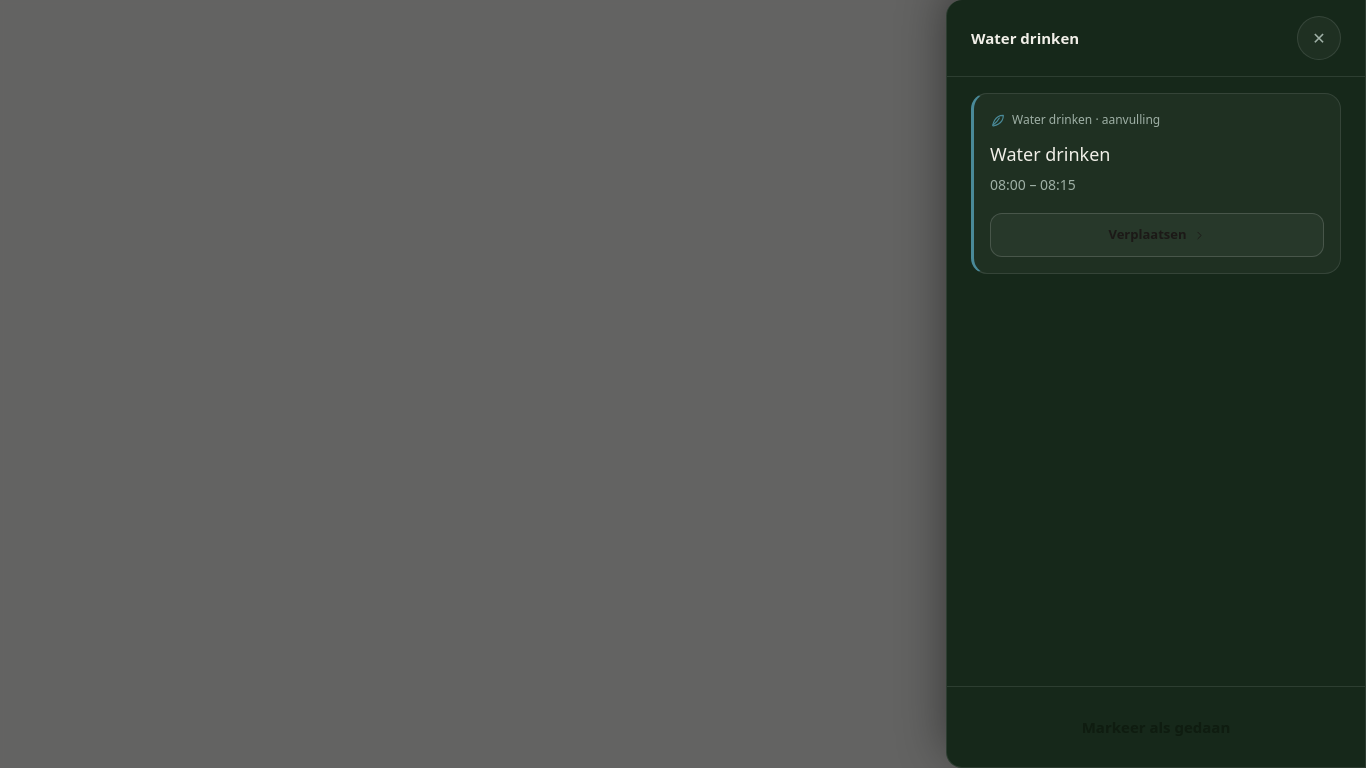
Test case: AgendaBlockDetailSheet — foutpad bij mislukte mutaties (B2/B4) › verplaatsen die faalt: sheet blijft open, toont de servermelding, geen tracking
Click the button "Verplaatsen" at (1157,235), box x1=990 y1=213 x2=1324 y2=257
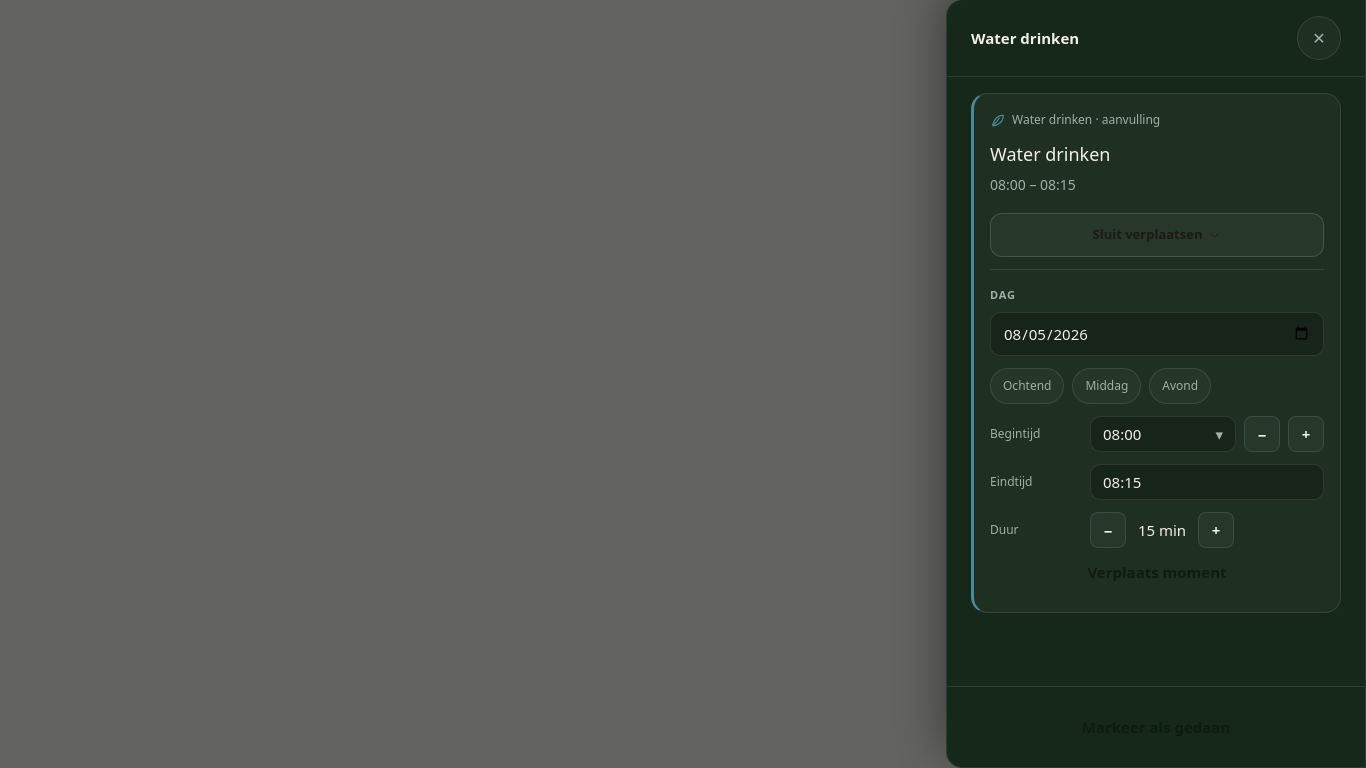
Click the button "Verplaats moment" at (1157,572), box x1=990 y1=548 x2=1324 y2=596
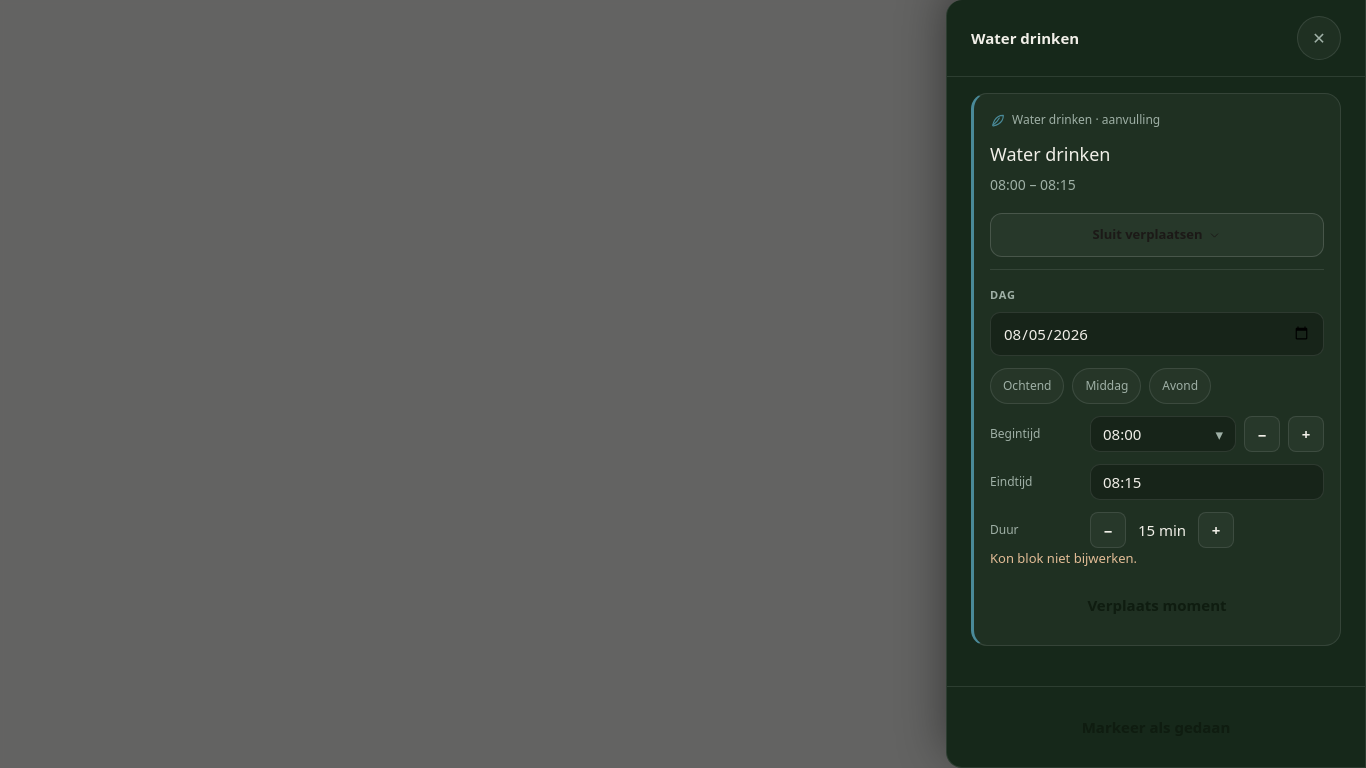
Expected: the text "Kon blok niet bijwerken." is shown, x1=990 y1=549 x2=1137 y2=567
